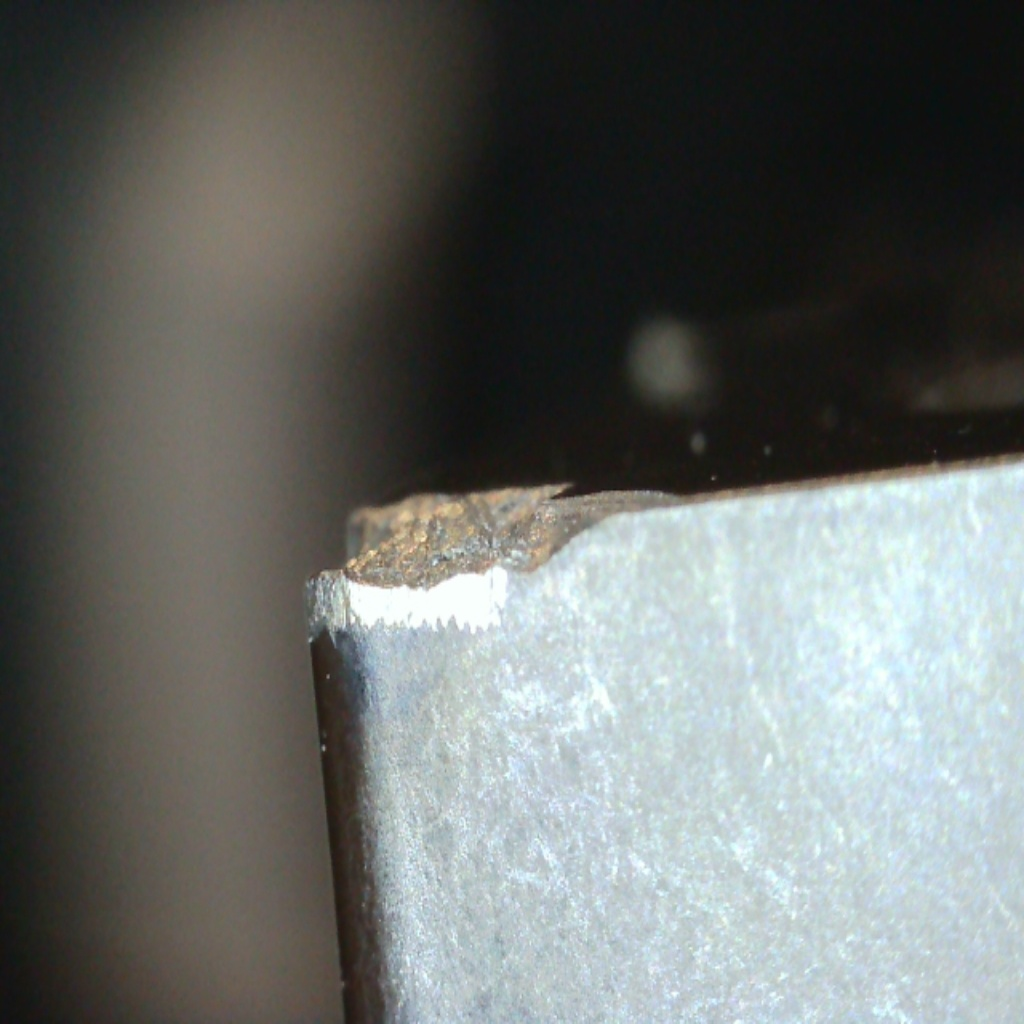flank_wear: (308, 547, 553, 638)
